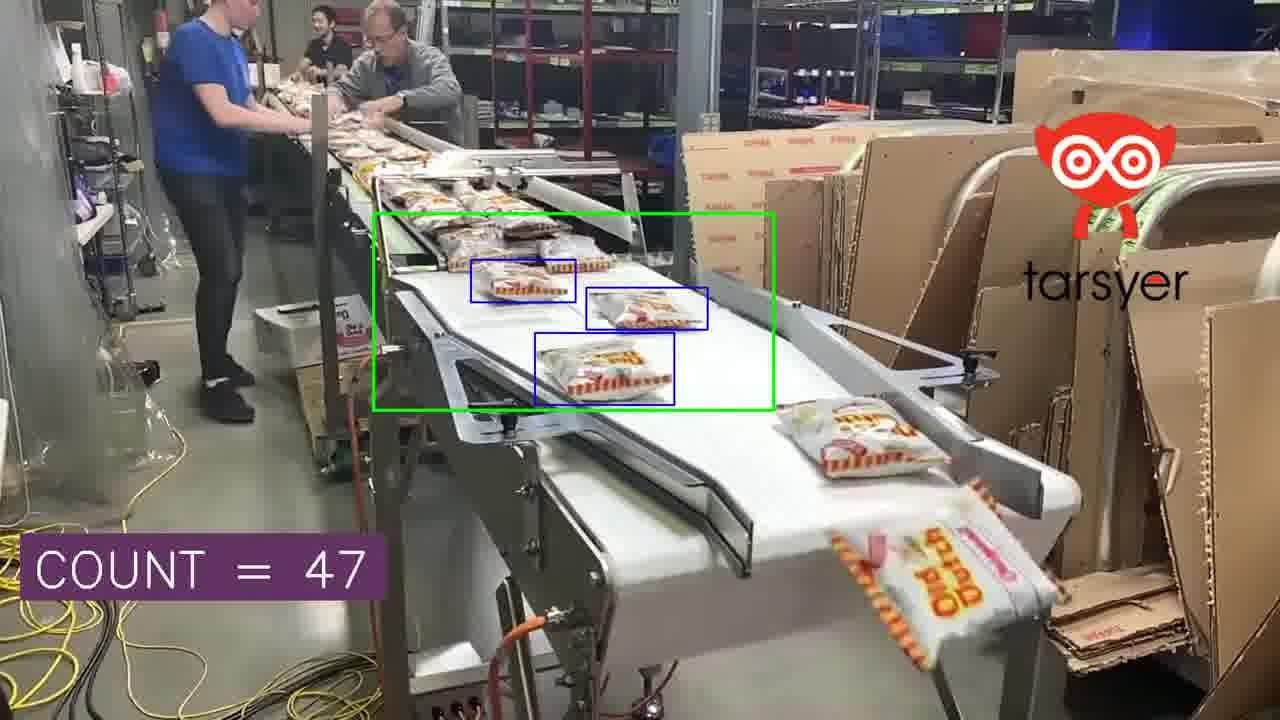Snack: (830, 482, 1059, 670), (777, 397, 948, 478), (539, 339, 672, 401), (455, 181, 564, 236), (589, 290, 701, 328), (400, 182, 477, 232), (475, 260, 567, 299), (538, 233, 612, 272), (435, 223, 519, 256), (382, 178, 448, 206), (447, 247, 508, 272), (352, 158, 385, 191), (357, 129, 399, 152), (385, 143, 431, 162), (330, 111, 363, 130), (338, 145, 376, 161)
